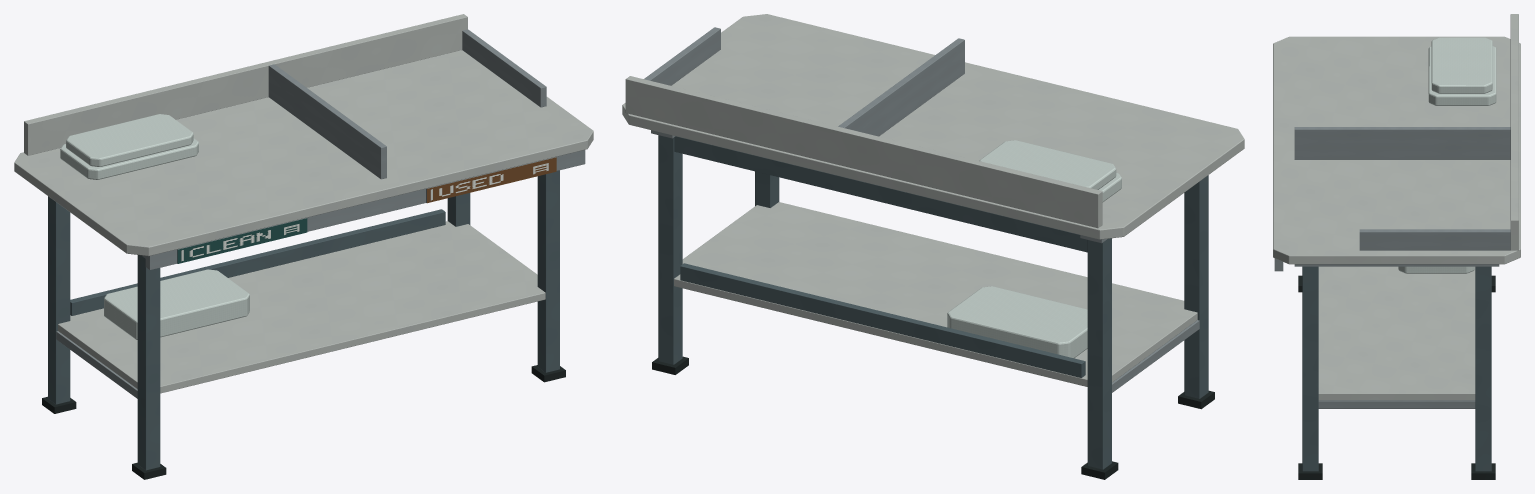
The model's file is AST-HSK-003.glb.
3 views of the same model, side by side, from view 1: azimuth 30°, elevation 25°; view 2: azimuth 150°, elevation 25°; view 3: azimuth 270°, elevation 25° (orthographic). The views are drawn at different scales.
Visible parts, largest first — view 1: AST-HSK-003__staff_white_paint, AST-HSK-003__staff_bluegrey_paint, AST-HSK-003__handling_linen, AST-HSK-003__staff_zinc, AST-HSK-003__staff_zinc__graphic, AST-HSK-003__staff_rubber; view 2: AST-HSK-003__staff_white_paint, AST-HSK-003__staff_bluegrey_paint, AST-HSK-003__handling_linen, AST-HSK-003__staff_zinc, AST-HSK-003__staff_rubber; view 3: AST-HSK-003__staff_white_paint, AST-HSK-003__staff_zinc, AST-HSK-003__staff_bluegrey_paint, AST-HSK-003__handling_linen, AST-HSK-003__staff_rubber.
Part boxes in pixels (x1,y1,x2,y2): AST-HSK-003__staff_white_paint: (14,14,593,393); AST-HSK-003__staff_bluegrey_paint: (48,170,559,470); AST-HSK-003__handling_linen: (60,114,249,339); AST-HSK-003__staff_zinc: (56,29,585,398); AST-HSK-003__staff_zinc__graphic: (177,157,556,263); AST-HSK-003__staff_rubber: (42,365,565,479); AST-HSK-003__staff_white_paint: (622,14,1244,386); AST-HSK-003__staff_bluegrey_paint: (658,135,1208,469); AST-HSK-003__handling_linen: (947,140,1121,358); AST-HSK-003__staff_zinc: (644,27,1199,392); AST-HSK-003__staff_rubber: (652,356,1214,479); AST-HSK-003__staff_white_paint: (1273,14,1520,400); AST-HSK-003__staff_zinc: (1274,127,1510,408); AST-HSK-003__staff_bluegrey_paint: (1302,266,1491,471); AST-HSK-003__handling_linen: (1398,37,1496,273); AST-HSK-003__staff_rubber: (1298,275,1495,479).
Size of the model in its own units: 1.8 by 1.02 by 0.86.
7 materials, 7 textured.
